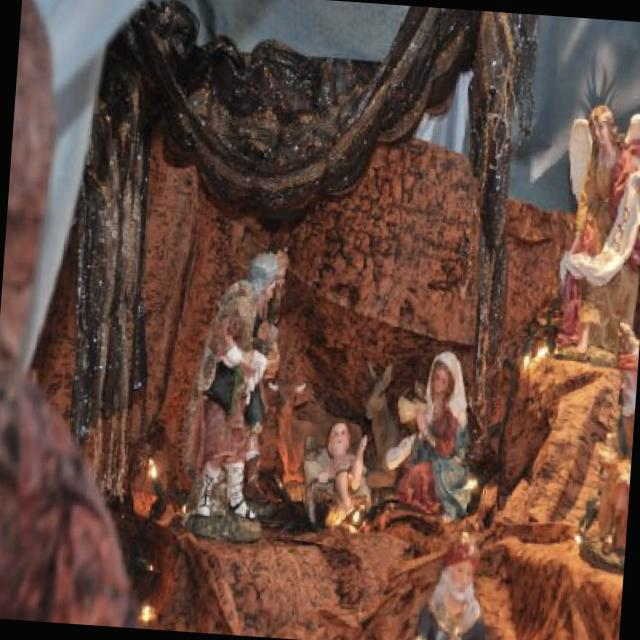Person: (558, 101, 640, 360), (386, 341, 485, 518), (186, 276, 260, 512), (586, 348, 639, 562), (410, 523, 495, 640), (318, 419, 370, 523), (242, 249, 280, 348), (266, 248, 289, 381)
